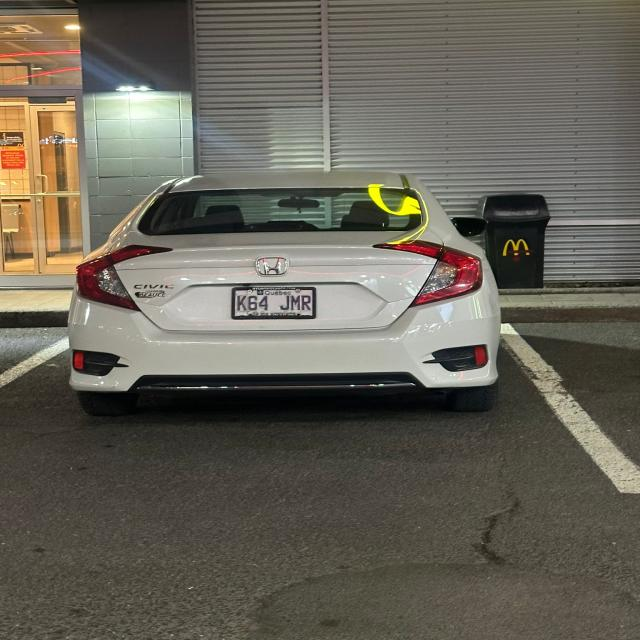plaque: (232, 287, 315, 319)
